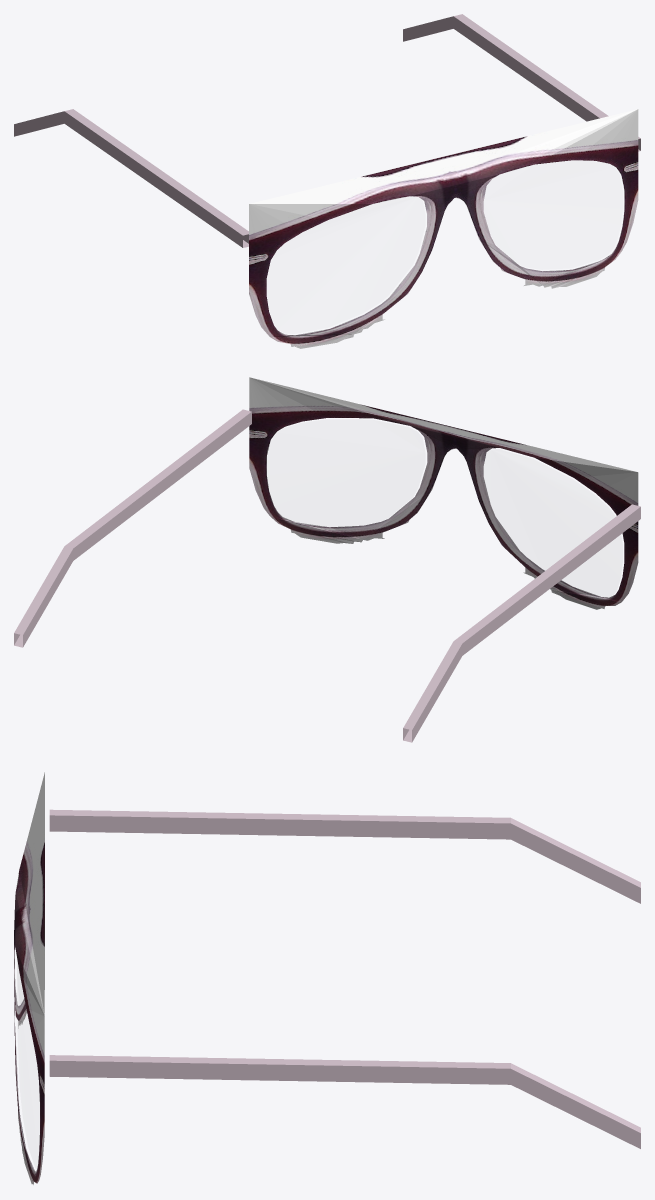
The model's file is gothamstyle-matte-247_matte-brown.glb.
The picture shows the model from 3 angles, top to bottom: view 1: azimuth 30°, elevation 25°; view 2: azimuth 150°, elevation 25°; view 3: azimuth 270°, elevation 25°; orthographic projection. The views are drawn at different scales.
Parts seen in each view (by area): view 1: frame_front, temple_viewer_left, temple_viewer_right; view 2: frame_front, temple_viewer_right, temple_viewer_left; view 3: temple_viewer_left, temple_viewer_right, frame_front.
Boxes of the visible parts, x1,y1,x2,y2 form: frame_front: (249, 109, 638, 348); temple_viewer_left: (14, 109, 248, 247); temple_viewer_right: (403, 14, 640, 151); frame_front: (249, 377, 638, 609); temple_viewer_right: (14, 409, 251, 647); temple_viewer_left: (403, 504, 640, 742); temple_viewer_left: (49, 809, 640, 903); temple_viewer_right: (49, 1055, 640, 1148); frame_front: (14, 772, 44, 1184).
Size of the model in its own units: 0.1335 by 0.0489 by 0.141.
Materials: 3 (2 with a texture image).
